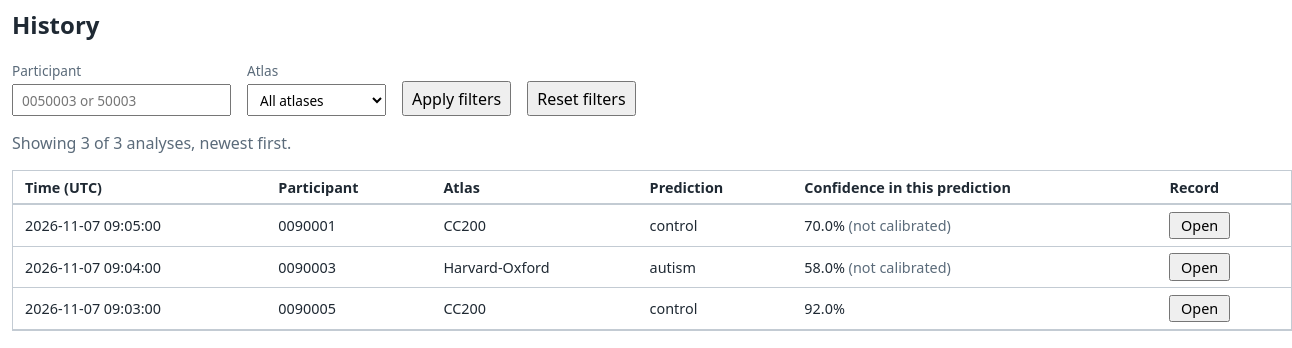
Test: History page › sends the participant and atlas filters to the API, and Reset clears them
Expected: the text "Showing 3 of 3 analyses, newest first." is shown, [12, 132, 291, 154]
Type "50003" into the field labelled "Participant".
click(122, 100); type("50003")  # box [12, 84, 231, 116]
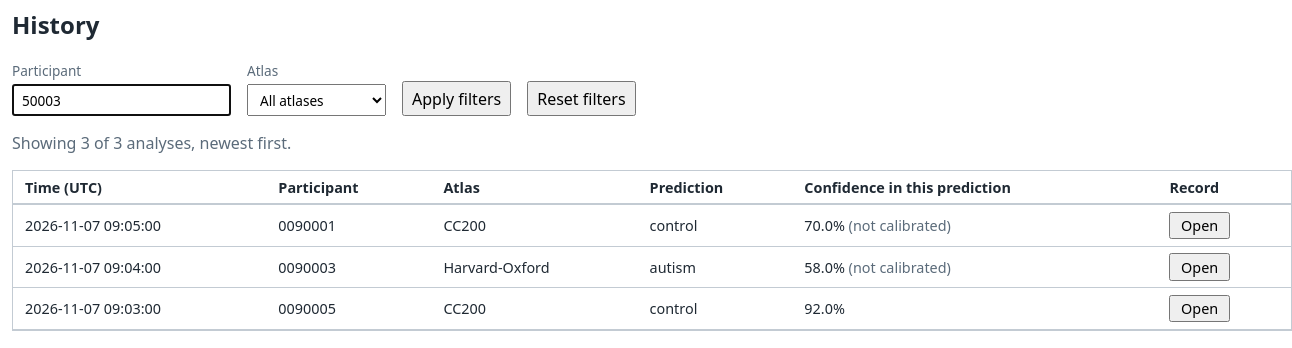
Select "CC200" in the dropdown labelled "Atlas" at (316, 100), box [247, 84, 386, 116]
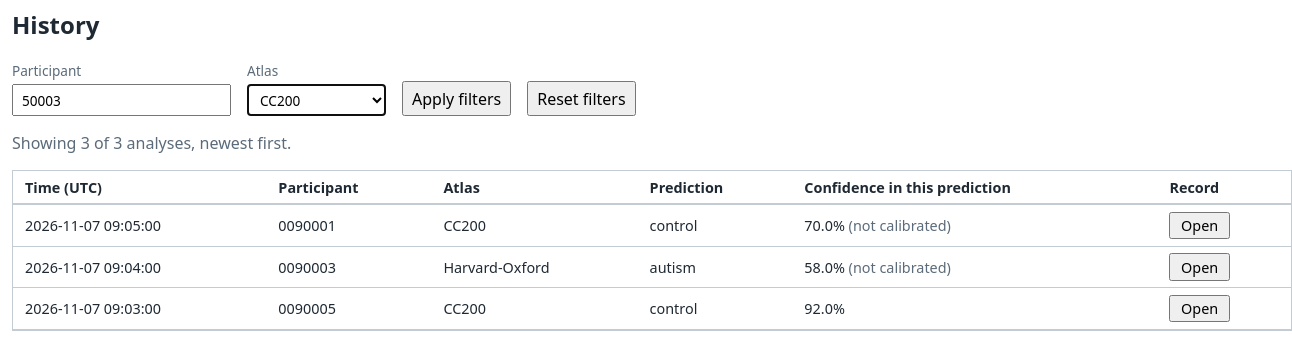
Click the button "Apply filters".
click(457, 99)  # box [402, 81, 511, 116]
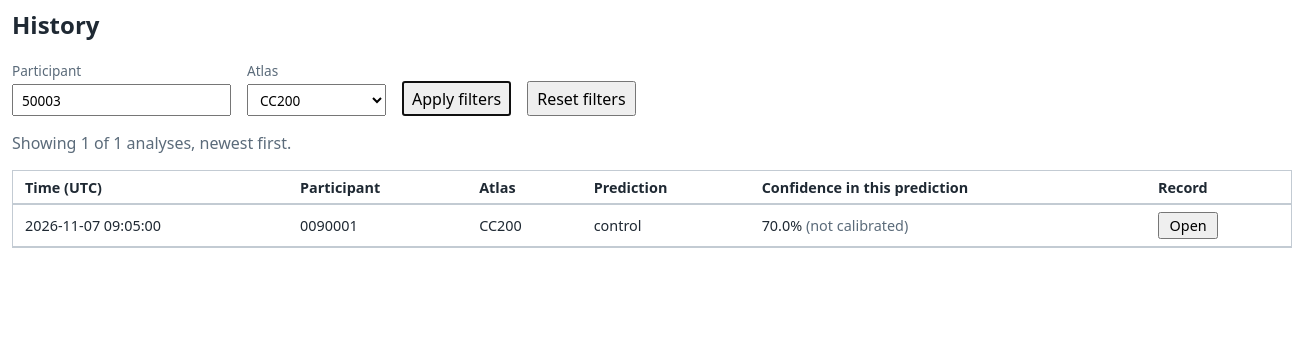
Now the text "Showing 1 of 1 analyses, newest first." is shown, box [12, 132, 291, 154]
Click the button "Reset filters".
click(581, 99)  # box [527, 81, 636, 116]
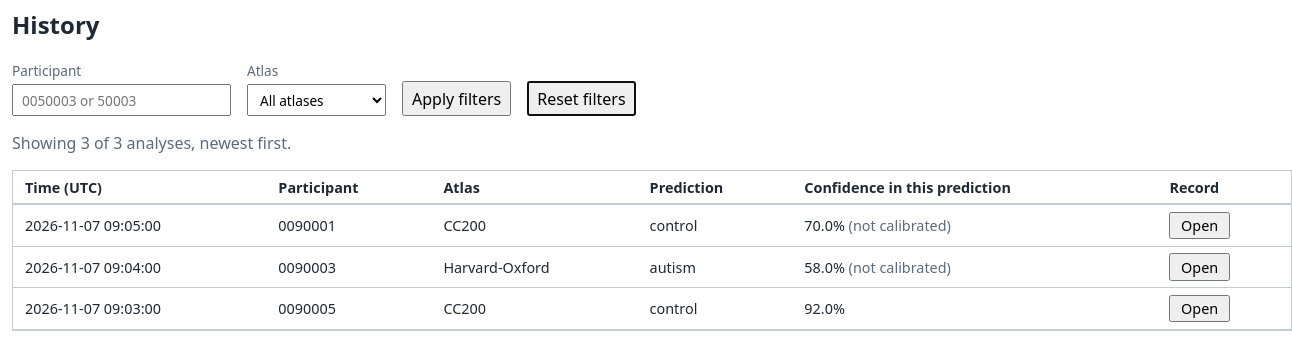
Now the text "Showing 3 of 3 analyses, newest first." is shown, box [12, 132, 291, 154]
